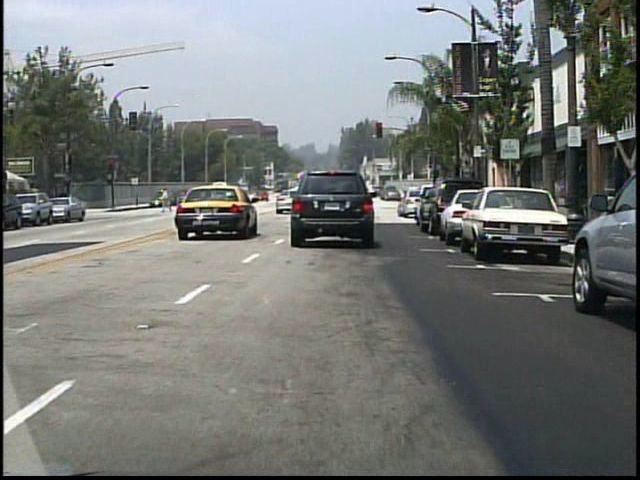person: (360, 186, 377, 216), (160, 188, 174, 215)
